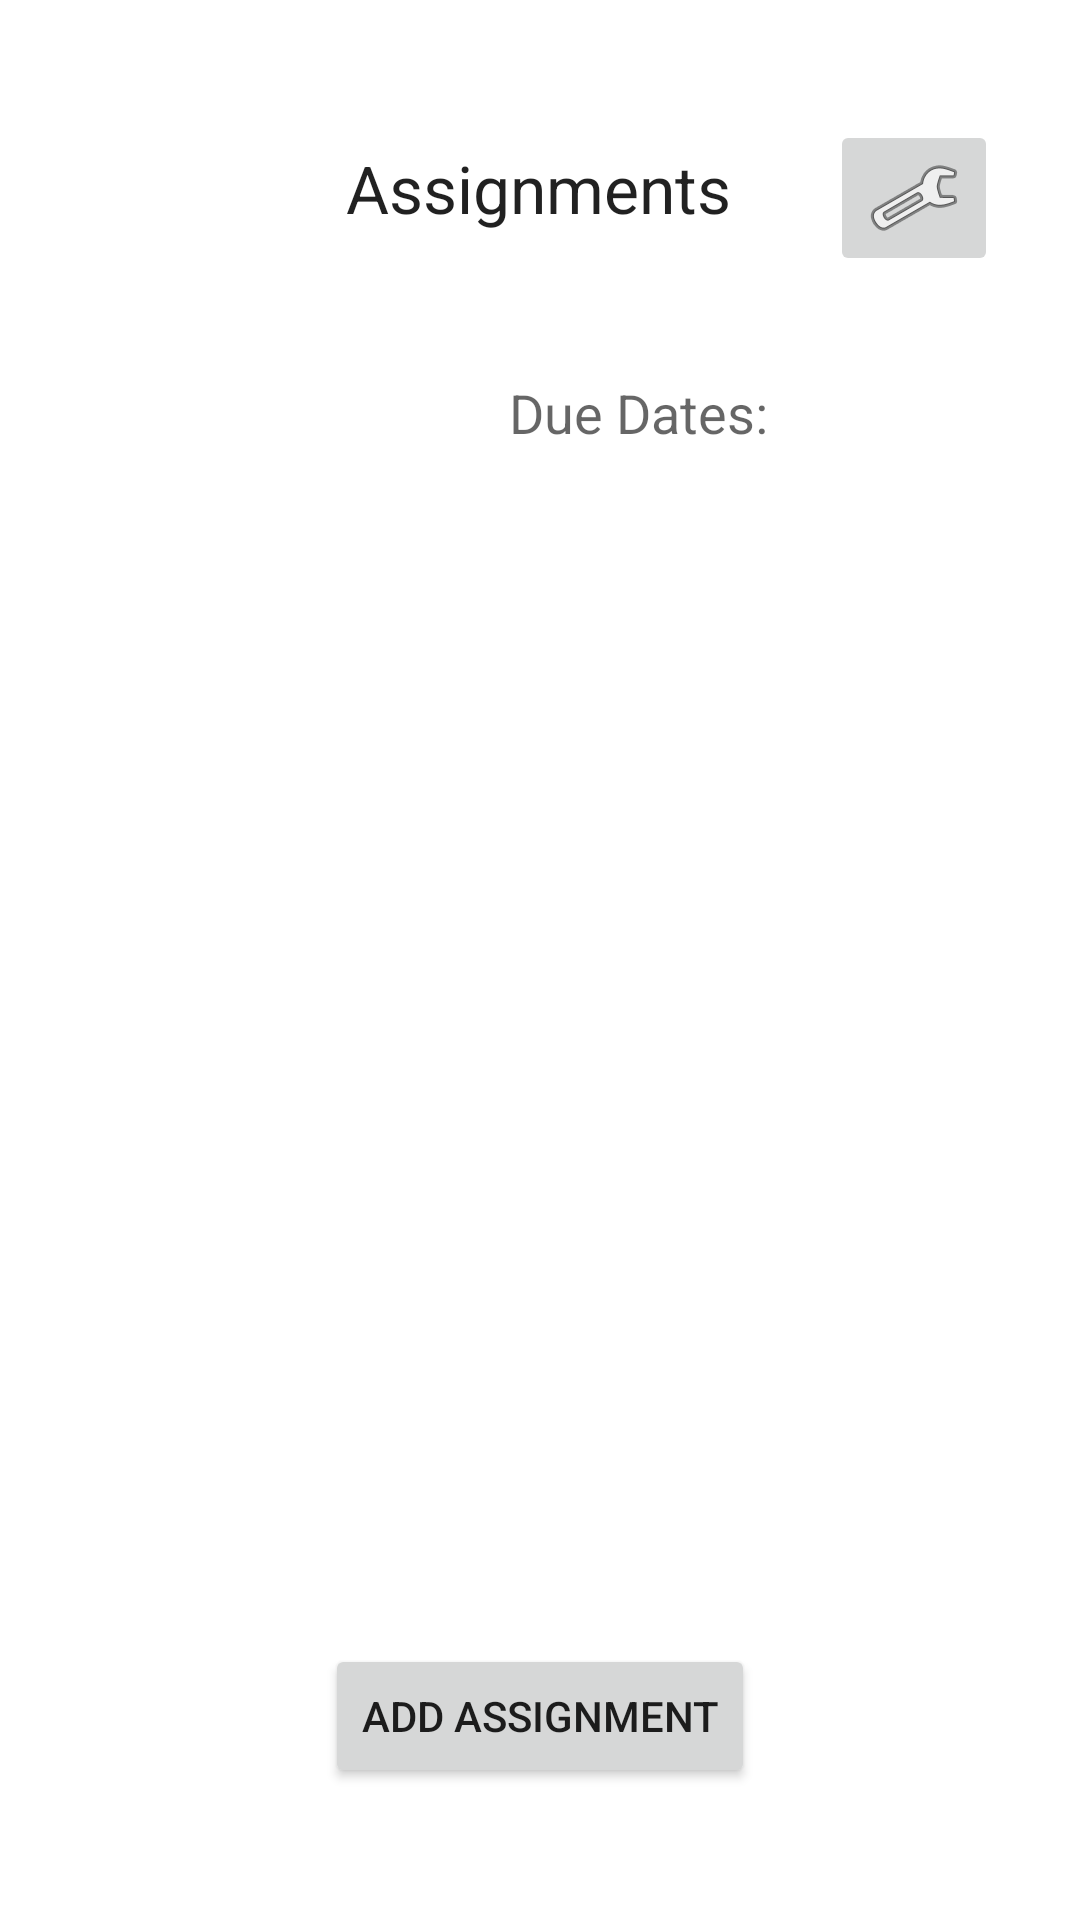

Icon bounding boxes for this 1080 x 1920 phone screenshot, format detection(x1, y1, x2, y2):
preferences: detection(842, 138, 986, 258)
